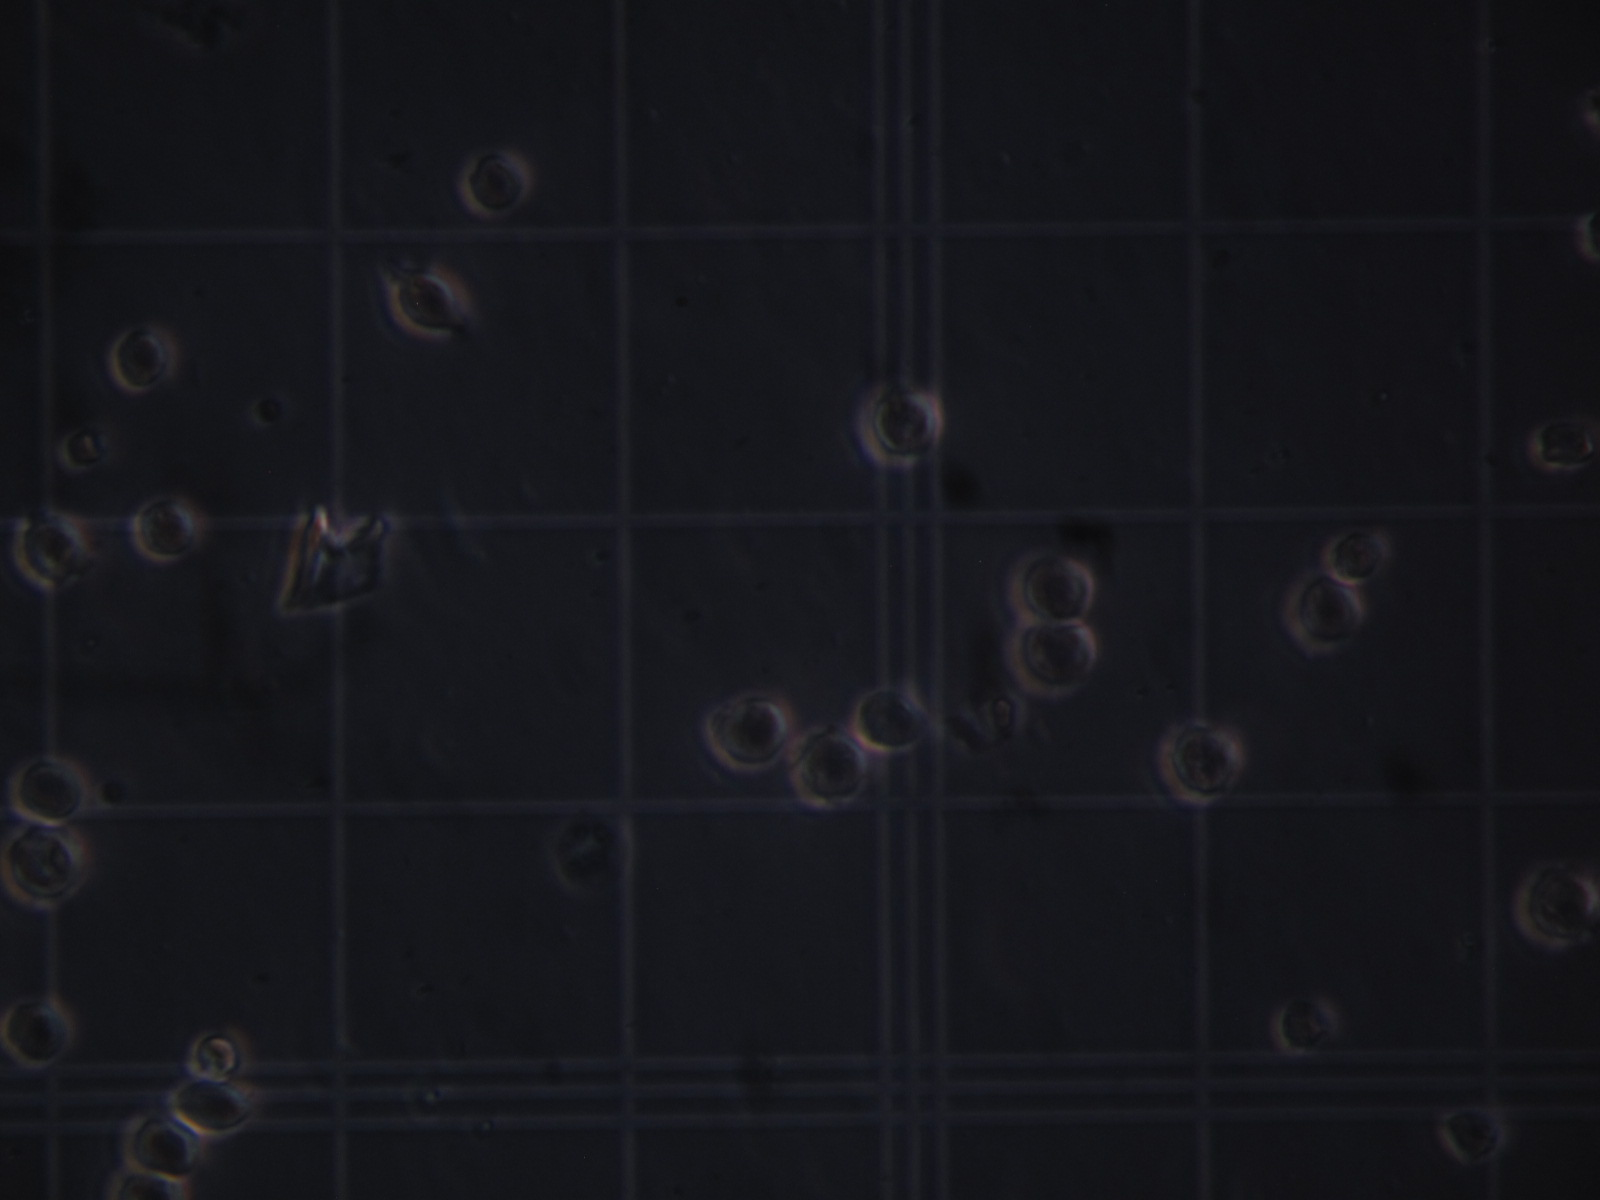hemo: (855, 382, 944, 469), (1003, 619, 1096, 700), (1160, 718, 1240, 808), (787, 724, 868, 808), (1286, 571, 1367, 654), (1514, 863, 1591, 950), (3, 827, 84, 908), (703, 695, 792, 768), (391, 265, 472, 342), (16, 509, 89, 591), (1010, 553, 1096, 621), (852, 684, 934, 755), (122, 1113, 207, 1180), (3, 995, 77, 1068), (11, 755, 87, 826), (165, 1079, 254, 1137), (134, 493, 207, 563), (457, 149, 530, 216), (111, 325, 176, 395), (1532, 415, 1600, 474), (1277, 995, 1339, 1058), (1327, 524, 1386, 586), (1441, 1109, 1507, 1161), (188, 1031, 244, 1082), (108, 1171, 184, 1200)
